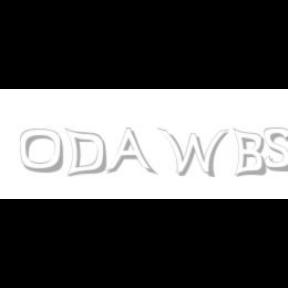A: (106, 128, 154, 176)
B: (232, 128, 266, 178)
D: (64, 128, 106, 178)
O: (20, 128, 64, 174)
W: (157, 128, 229, 178)
